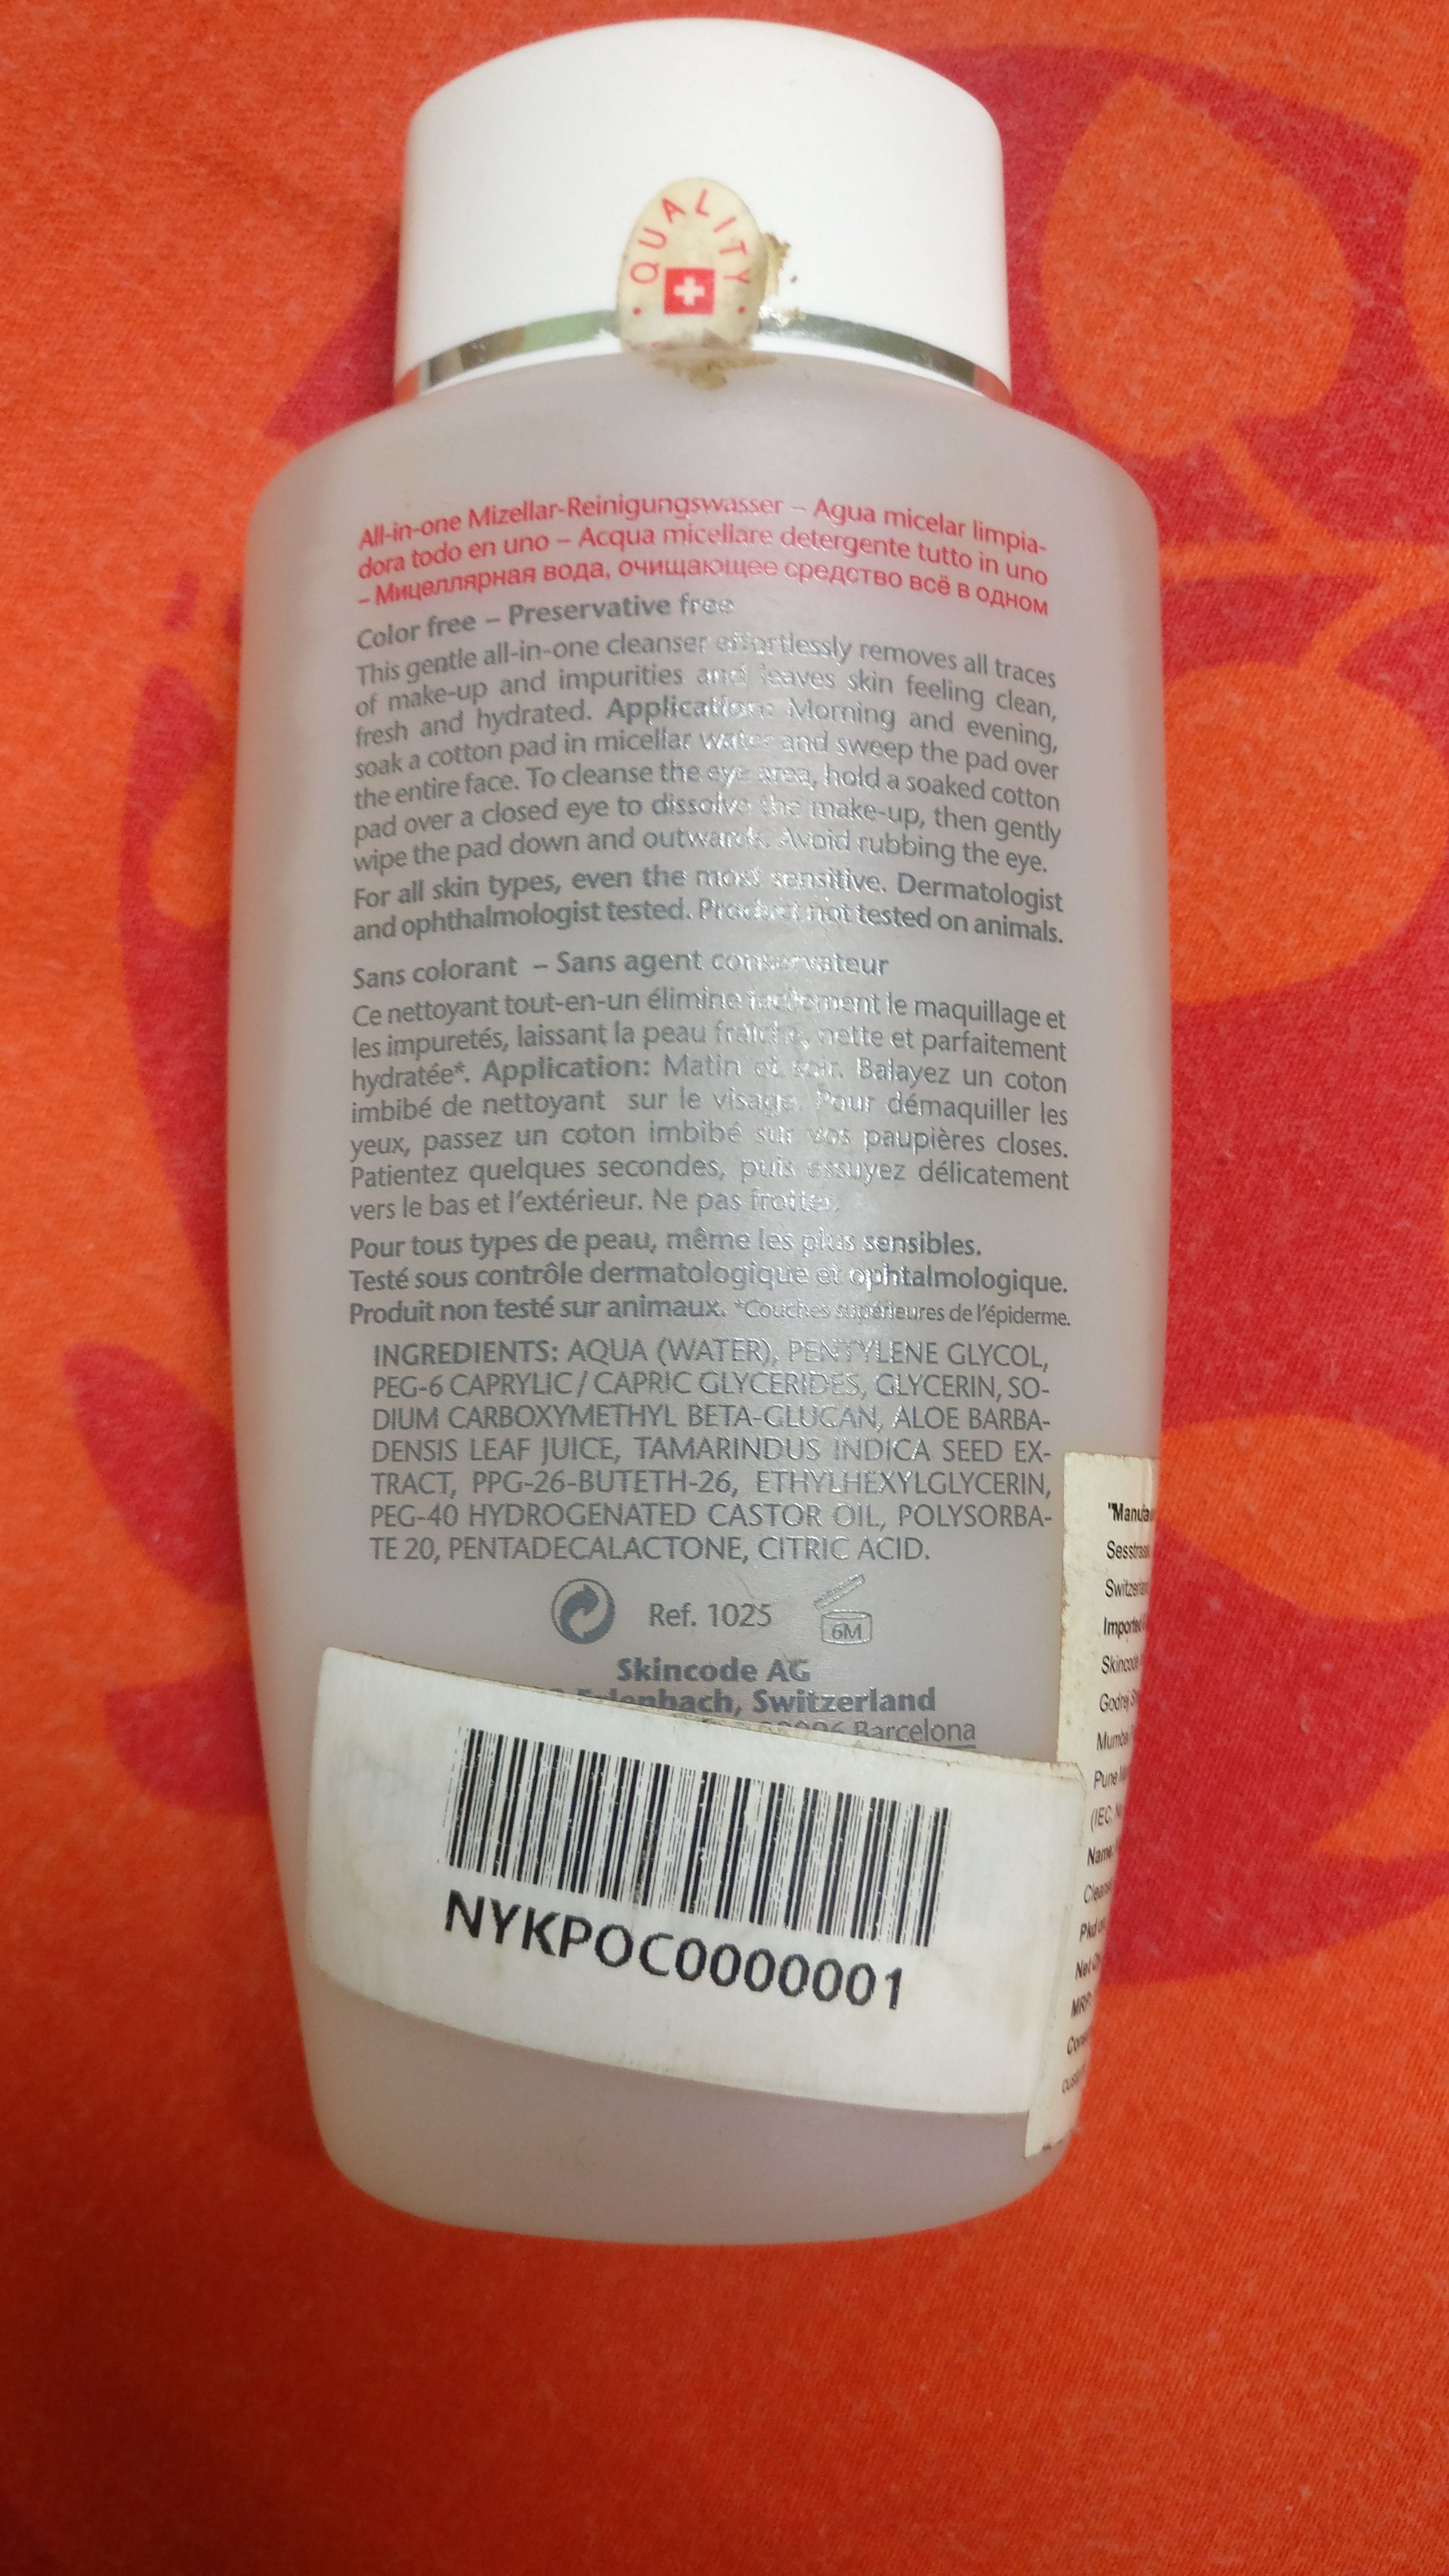barcode: (403, 1727, 964, 2029)
